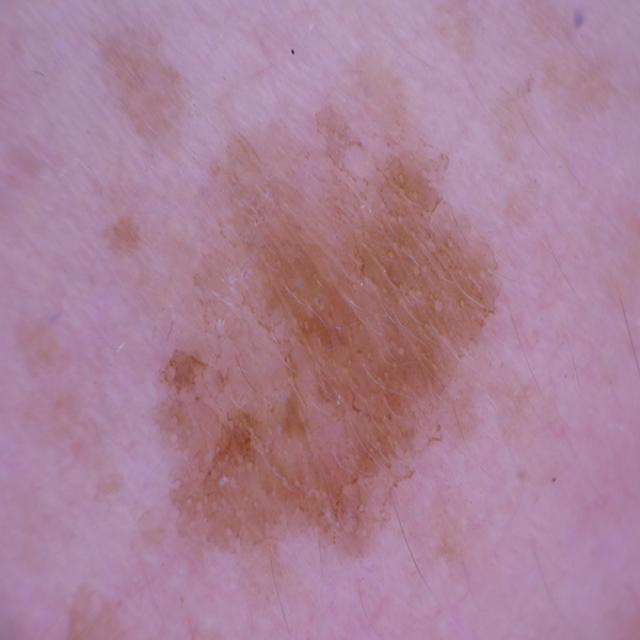Skin-Cancer Pigmented benign keratosis: (43, 38, 601, 571)
